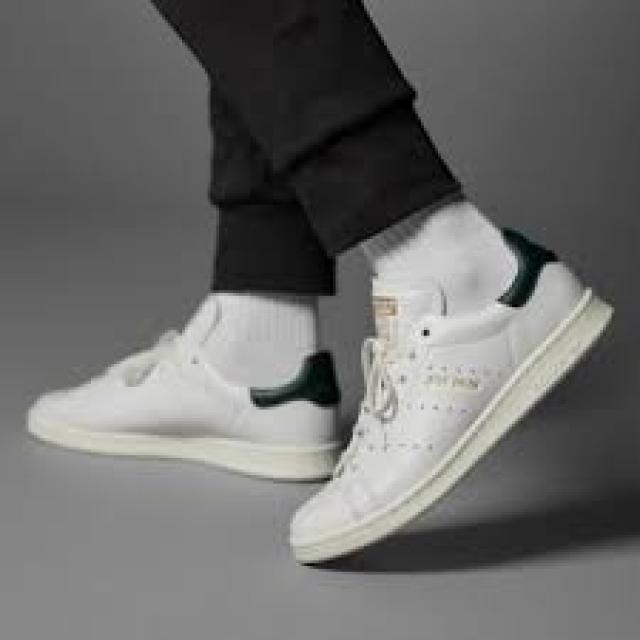shoe: (290, 228, 613, 570), (25, 330, 342, 480)
